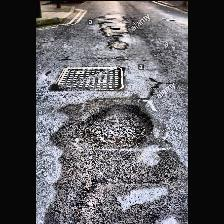pothole: (74, 101, 154, 149), (110, 26, 122, 28)
